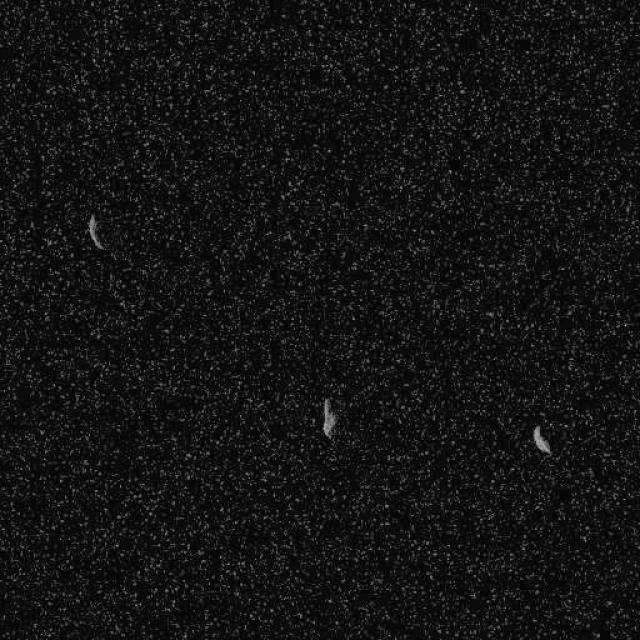D2: (85, 211, 107, 251), (320, 396, 338, 440), (531, 424, 551, 455)
